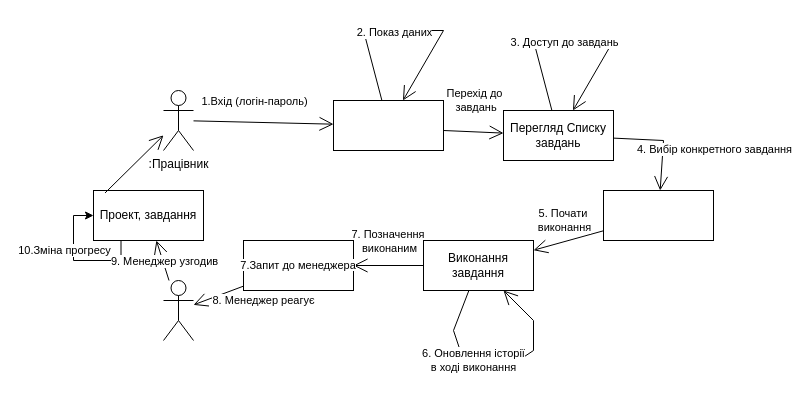
Some shapes in this 809 by 402 pixel diagram are drawn without their labels. Each missing label, with the centre of its shape:
":Менеджер" goes at (x=178, y=310).
"Відкриття завдання" goes at (x=658, y=215).
"Перегляд Профілю" goes at (x=388, y=125).
